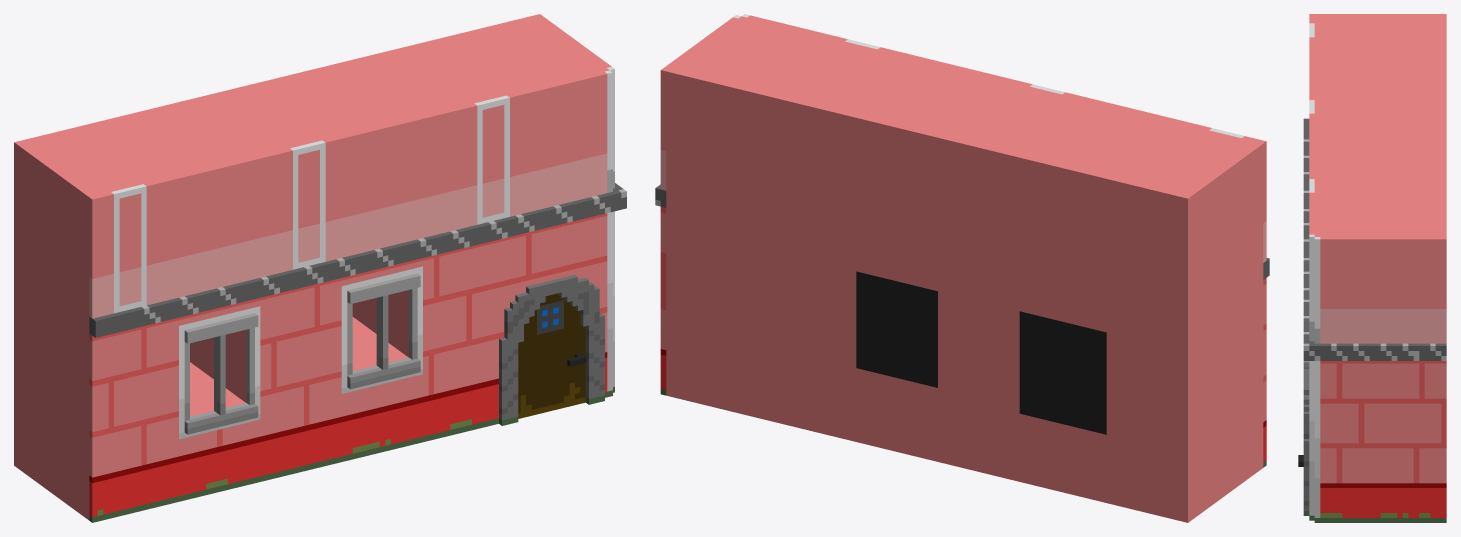
File: Matrix_3.fbx
The picture shows the model from 3 angles, left to right: view 1: azimuth 30°, elevation 25°; view 2: azimuth 150°, elevation 25°; view 3: azimuth 270°, elevation 25°; orthographic projection. The views are drawn at different scales.
Visible parts, largest first — view 1: Matrix_3; view 2: Matrix_3; view 3: Matrix_3.
Part boxes in pixels (x1,y1,x2,y2): Matrix_3: (14,14,626,522); Matrix_3: (655,14,1269,522); Matrix_3: (1298,14,1446,522).
Bounding box in the file's own units: 98 × 57 × 27.
1 material, 1 textured.
